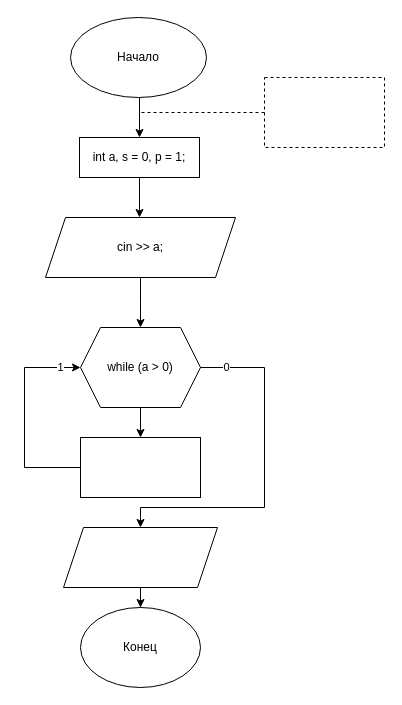
Some shapes in this 402 by 705 pixel diagram are drawn without their labels. The shapes that lost their labels are listed below. From the top down, each one's box as (x1, y1, x2, y2) in pixels, then its label:
(264, 76, 384, 148): #include <iostream> using namespace std; int main()
(80, 436, 200, 498): s += a; p *= a; a -= 1;
(62, 526, 218, 588): cout << s << " " << p;
